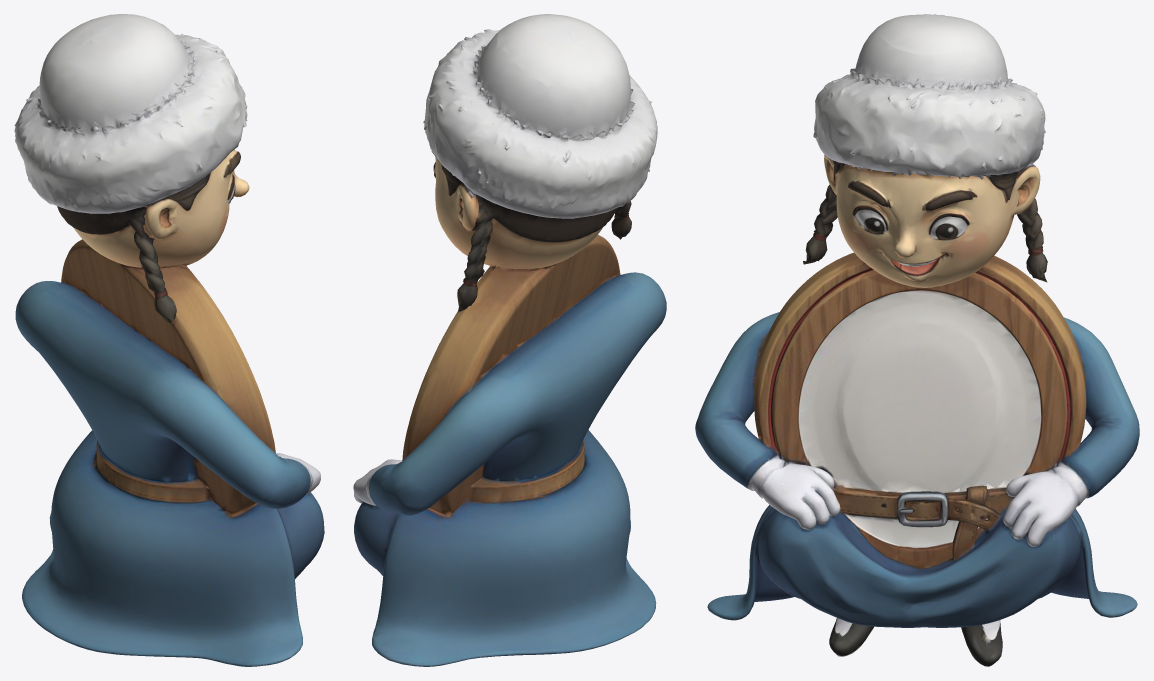
File: j_agula_young.glb
3 renders of one model, left to right at view 1: azimuth 30°, elevation 25°; view 2: azimuth 150°, elevation 25°; view 3: azimuth 270°, elevation 25°, orthographic. The views are drawn at different scales.
Parts seen in each view (by area): view 1: tripo_node_b642453b-50d1-405b-b1e0-36bd88e4ea52; view 2: tripo_node_b642453b-50d1-405b-b1e0-36bd88e4ea52; view 3: tripo_node_b642453b-50d1-405b-b1e0-36bd88e4ea52.
Part boxes in pixels (x1,y1,x2,y2): tripo_node_b642453b-50d1-405b-b1e0-36bd88e4ea52: (14, 14, 324, 666); tripo_node_b642453b-50d1-405b-b1e0-36bd88e4ea52: (353, 14, 666, 666); tripo_node_b642453b-50d1-405b-b1e0-36bd88e4ea52: (695, 14, 1139, 666).
Size of the model in its own units: 0.3965 by 0.9796 by 0.6664.
1 material, 1 textured.
